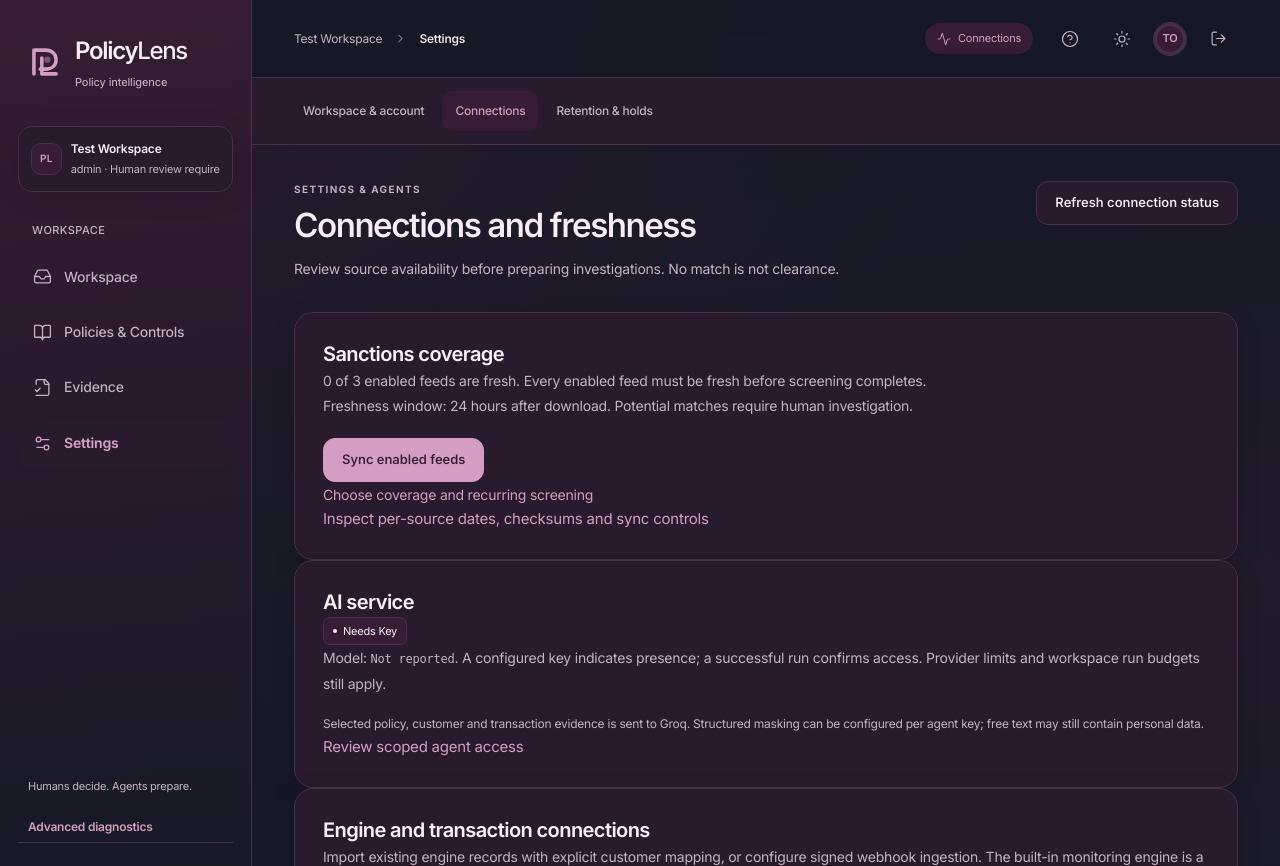
Test: connection sync reports partial progress and stops after a feed failure
The width and height of the screenshot is (1280, 866).
Click the button "Sync enabled feeds": [404, 460] box [323,438,484,482]
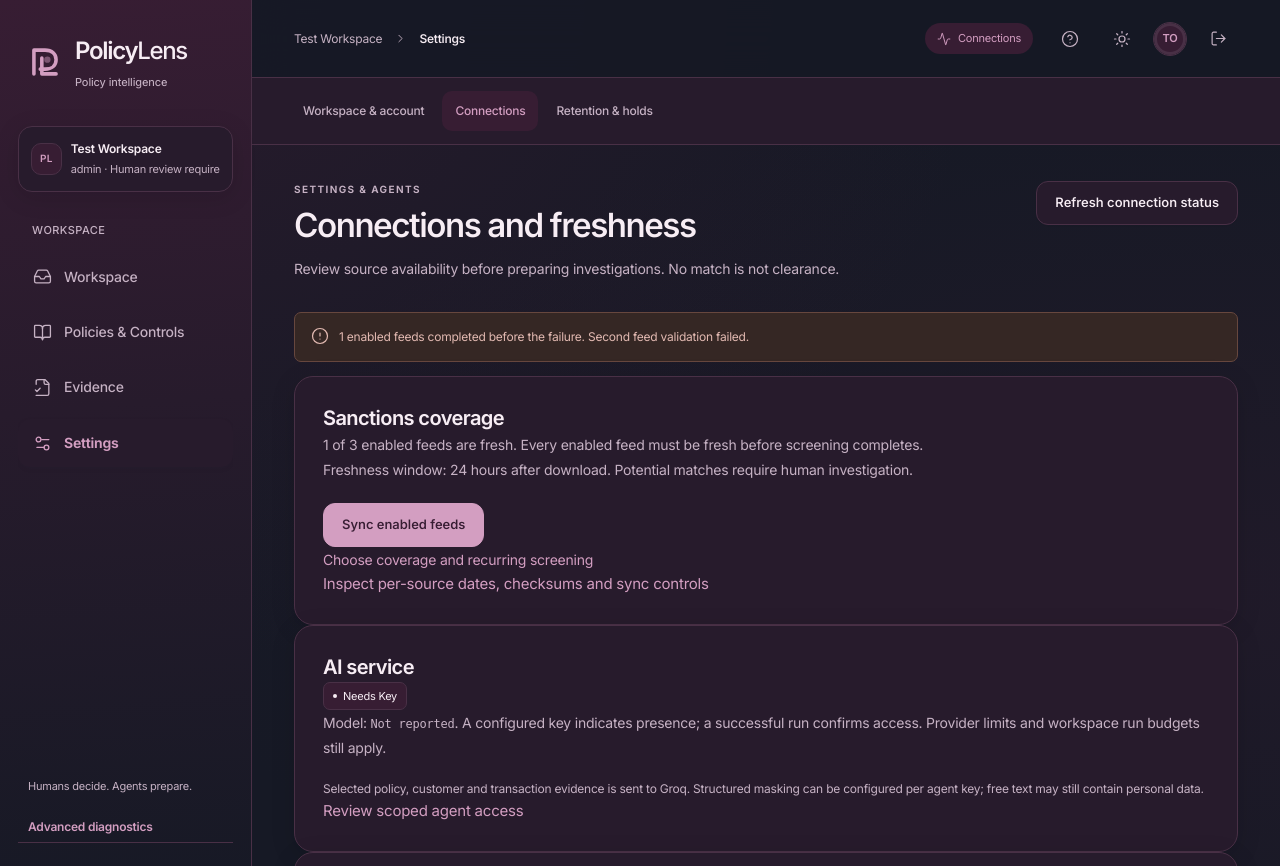
expect the button "Sync enabled feeds" is enabled: met, box [323,502,484,546]
expect the text "1 enabled feeds completed before the failure. Second feed validation failed." is shown: met, box [339,327,749,347]
expect the text "1 of 3 enabled feeds are fresh" is shown: met, box [323,436,923,453]
